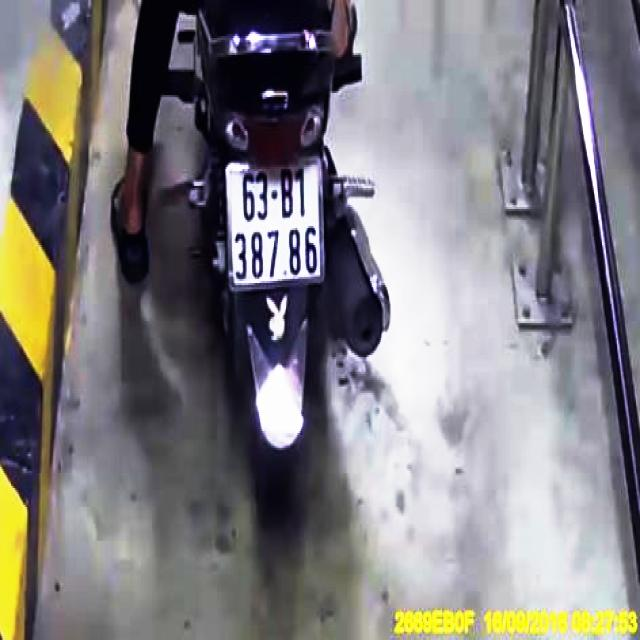license_plate: (229, 161, 325, 288)
